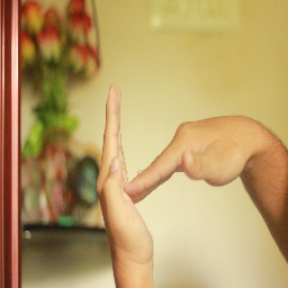Z: (89, 79, 257, 266)
